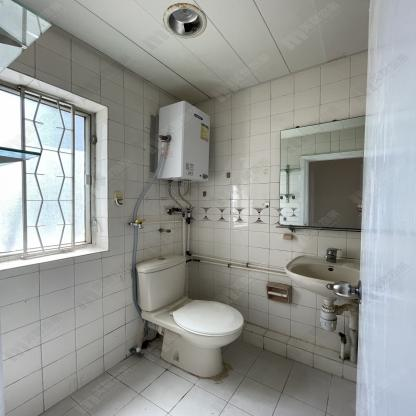Toilet: (136, 255, 245, 377)
Toilet Sink: (284, 255, 360, 299)
Water Heater: (156, 100, 211, 182)
